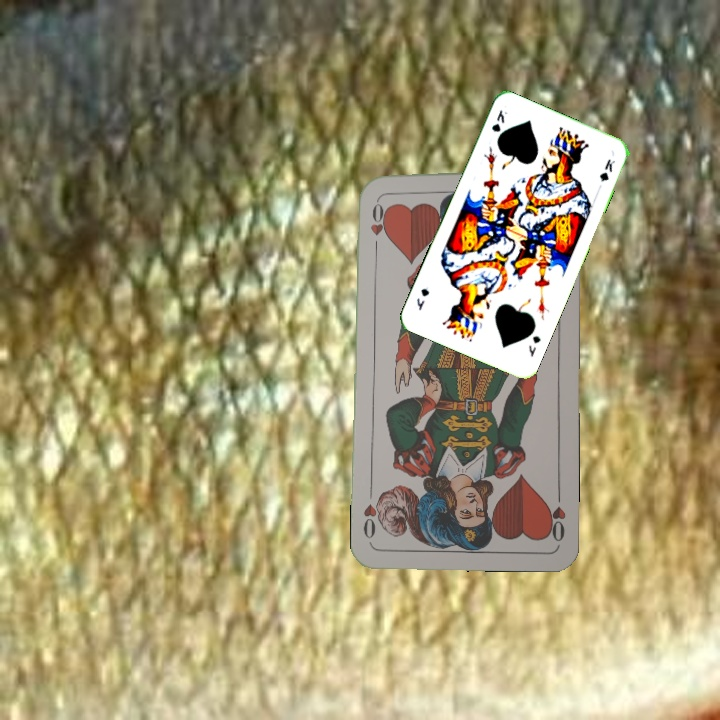GK: (487, 106, 510, 135), (524, 332, 543, 360)
HO: (543, 486, 568, 544), (367, 195, 387, 254)
